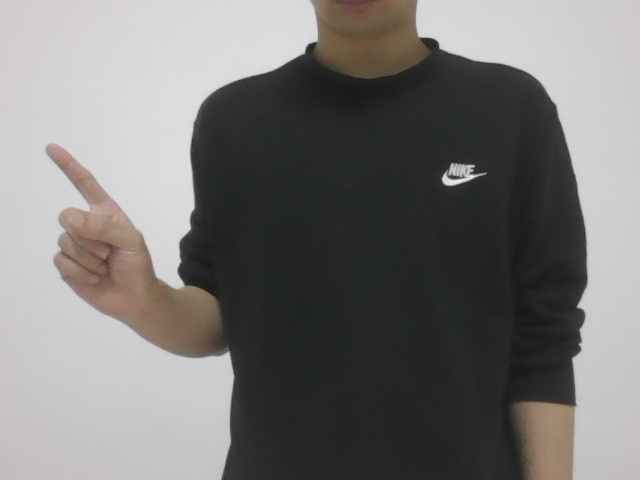what: (36, 135, 159, 332)
